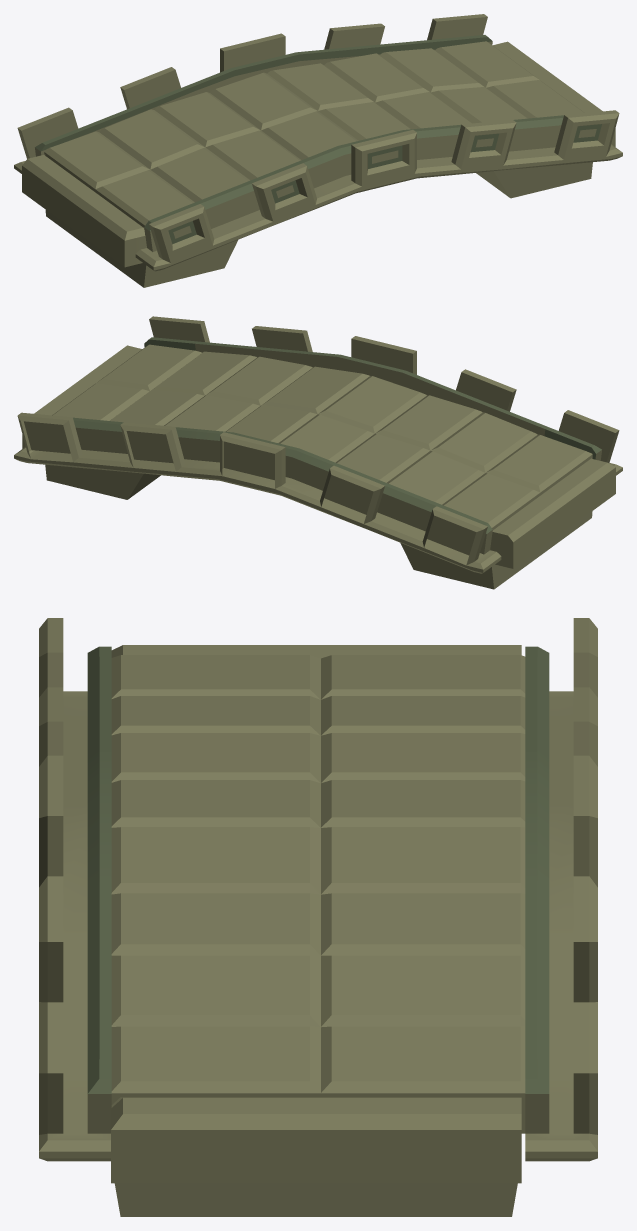
Rendered from brigde5_rock.fbx.
The picture shows the model from 3 angles, top to bottom: view 1: azimuth 30°, elevation 25°; view 2: azimuth 150°, elevation 25°; view 3: azimuth 270°, elevation 25°; orthographic projection. The views are drawn at different scales.
Parts seen in each view (by area): view 1: brigde5_rock; view 2: brigde5_rock; view 3: brigde5_rock.
Part boxes in pixels (x1,y1,x2,y2): brigde5_rock: (14, 14, 622, 287); brigde5_rock: (14, 316, 622, 589); brigde5_rock: (39, 618, 597, 1216).
Size of the model in its own units: 16.13 by 3.35 by 7.95.
